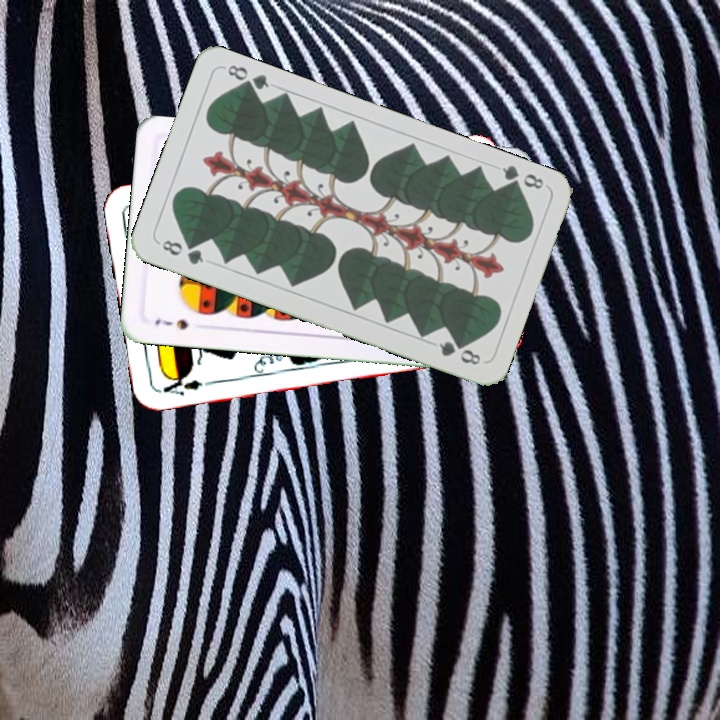EA: (155, 370, 214, 398)
G8: (155, 236, 206, 268), (498, 161, 546, 194)
S7: (151, 314, 191, 332)
